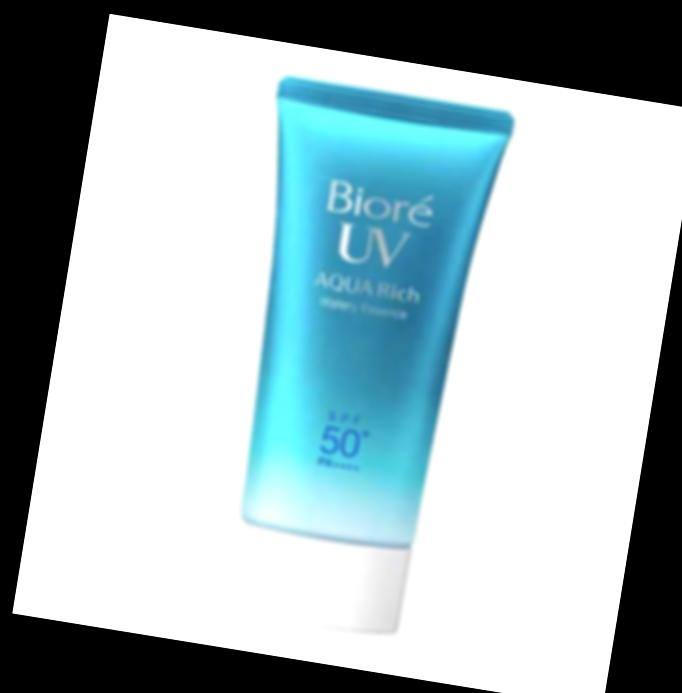cosmetic: (190, 72, 517, 645)
